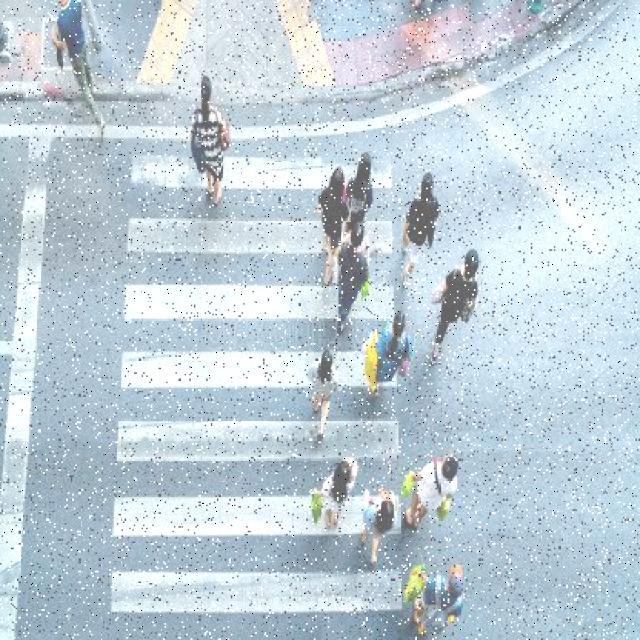crosswalk: (82, 91, 453, 639)
